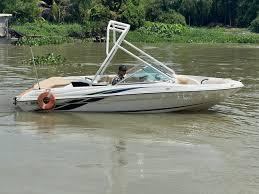Ship: (15, 21, 244, 113)
